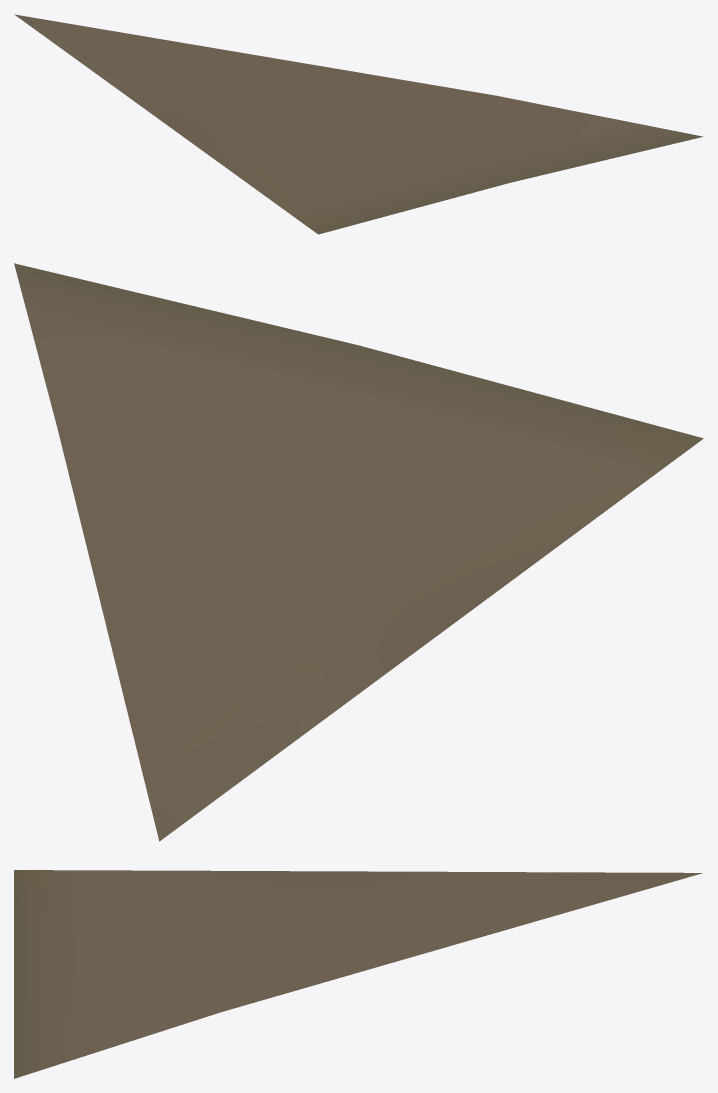
Rendered from CM_Terrain_24490049_6819180.fbx.
The picture shows the model from 3 angles, top to bottom: view 1: azimuth 30°, elevation 25°; view 2: azimuth 150°, elevation 25°; view 3: azimuth 270°, elevation 25°; orthographic projection. The views are drawn at different scales.
Parts seen in each view (by area): view 1: CM_Terrain_24490049_6819180_LOD0; view 2: CM_Terrain_24490049_6819180_LOD0; view 3: CM_Terrain_24490049_6819180_LOD0.
Part boxes in pixels (x1,y1,x2,y2): CM_Terrain_24490049_6819180_LOD0: [14, 14, 703, 234]; CM_Terrain_24490049_6819180_LOD0: [14, 263, 703, 841]; CM_Terrain_24490049_6819180_LOD0: [14, 870, 702, 1078].
Size of what is drawn, in the model's own units: 0.7773 by 0.0168 by 1.06.
